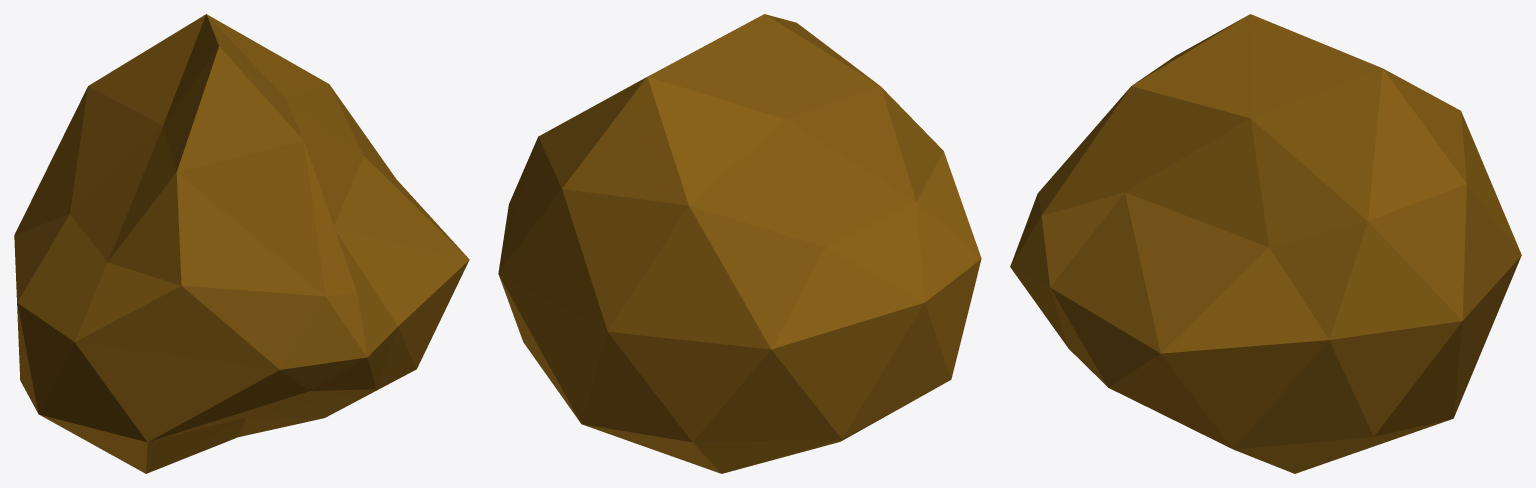
The model's file is dog treat.glb.
The picture shows the model from 3 angles, left to right: view 1: azimuth 30°, elevation 25°; view 2: azimuth 150°, elevation 25°; view 3: azimuth 270°, elevation 25°; orthographic projection. The views are drawn at different scales.
Parts seen in each view (by area): view 1: Icosphere; view 2: Icosphere; view 3: Icosphere.
Boxes of the visible parts, box(x1,y1,x2,y2) form: Icosphere: box(14, 14, 469, 473); Icosphere: box(498, 14, 981, 473); Icosphere: box(1010, 14, 1521, 473).
Bounding box in the file's own units: 0.0726 × 0.0717 × 0.0788.
